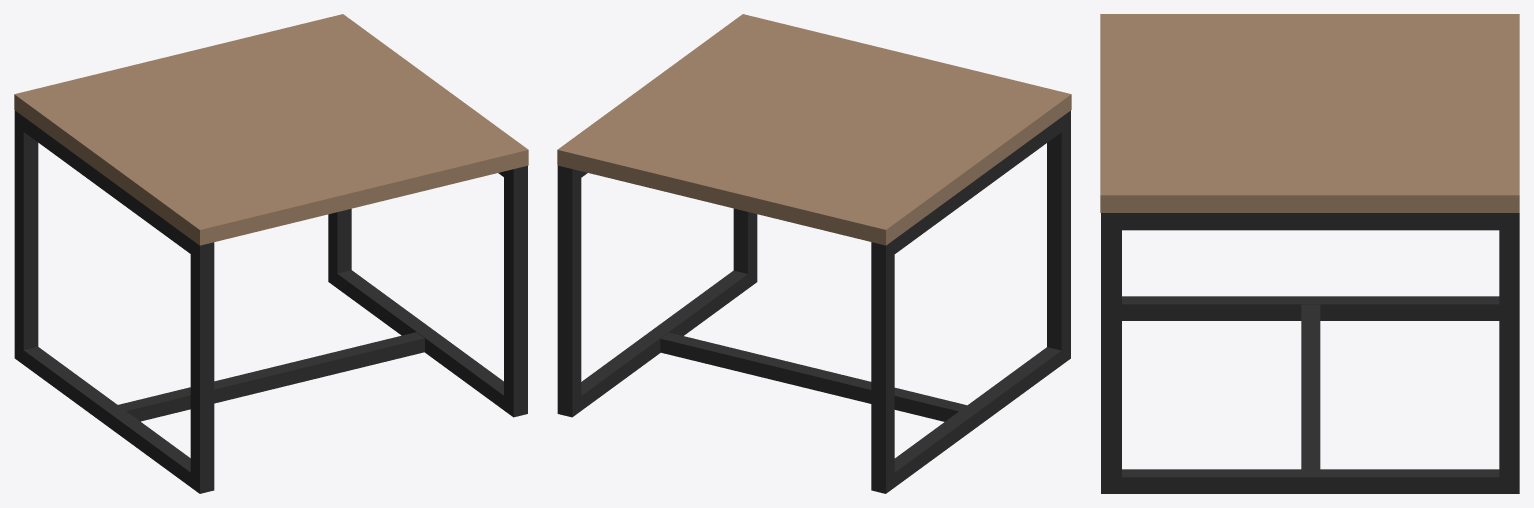
The model's file is tables003.glb.
The picture shows the model from 3 angles, left to right: view 1: azimuth 30°, elevation 25°; view 2: azimuth 150°, elevation 25°; view 3: azimuth 270°, elevation 25°; orthographic projection. The views are drawn at different scales.
Visible parts, largest first — view 1: tables.003; view 2: tables.003; view 3: tables.003.
Part boxes in pixels (left/top/right/bottom): tables.003: left=14, top=14, right=528, bottom=493; tables.003: left=557, top=14, right=1071, bottom=493; tables.003: left=1100, top=14, right=1519, bottom=493.
Size of the model in its own units: 1.02 by 0.7856 by 1.
1 material, 1 textured.
